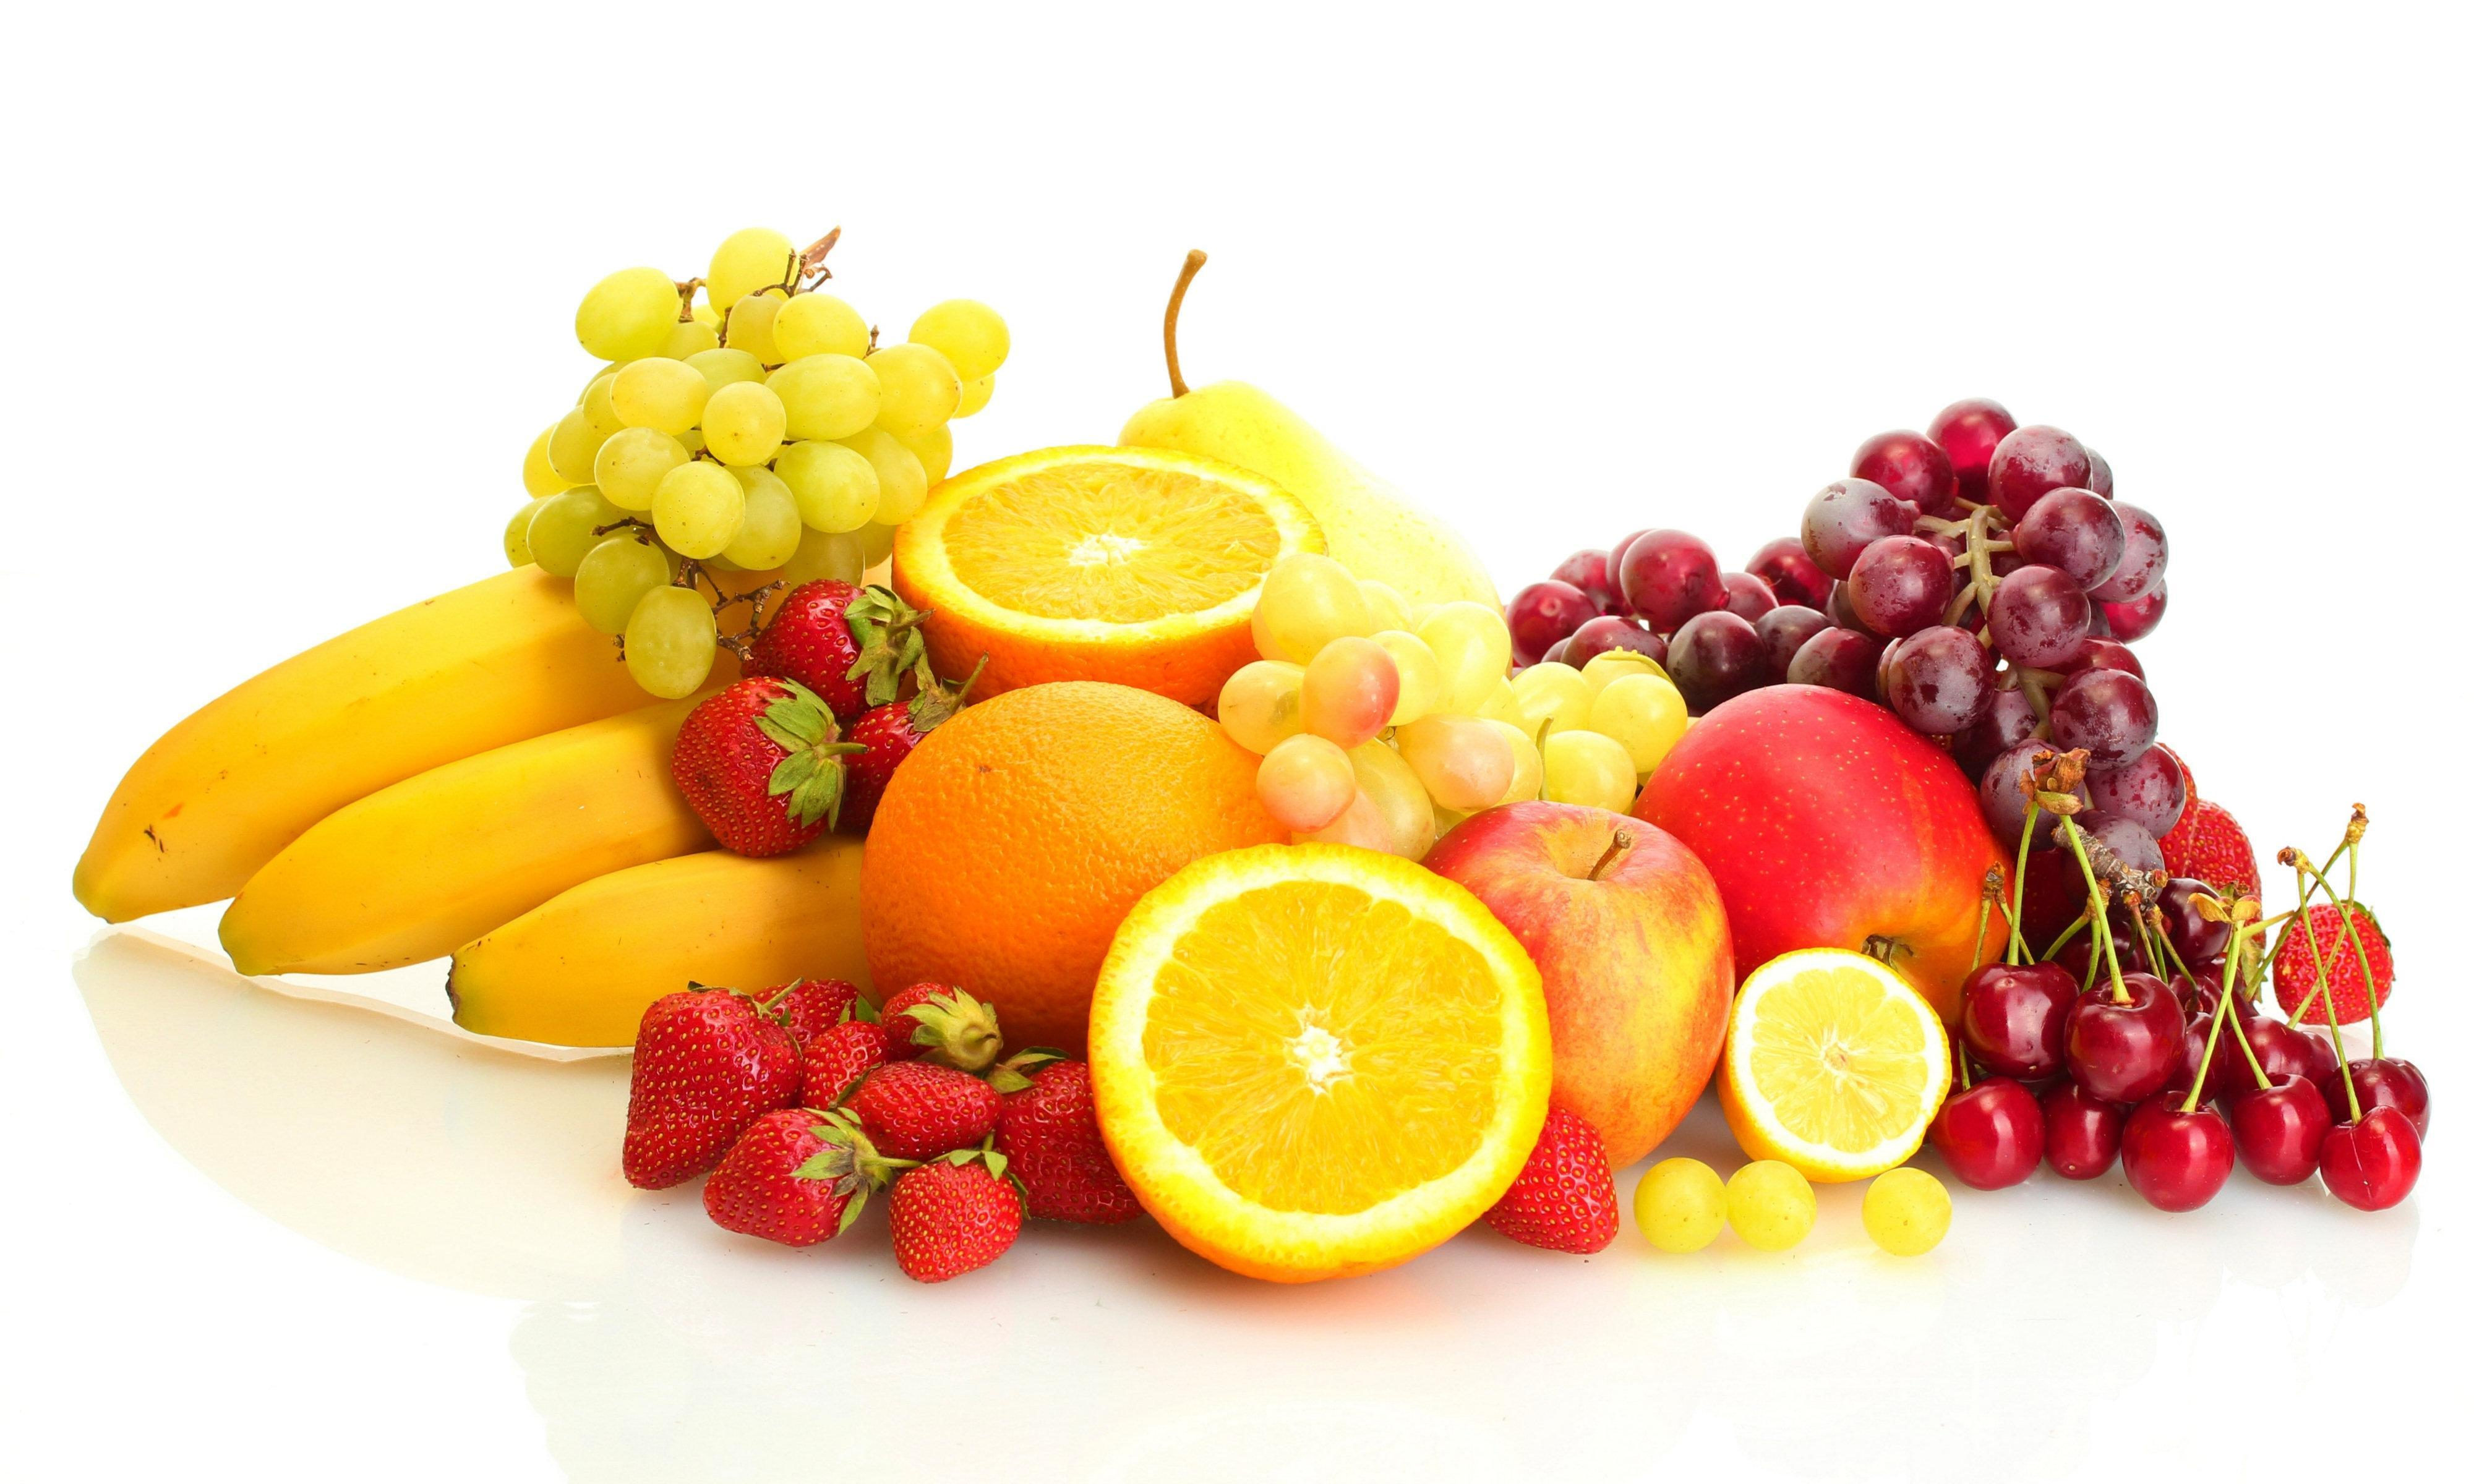apple: (1635, 689, 2016, 1019), (1421, 795, 1741, 1171)
